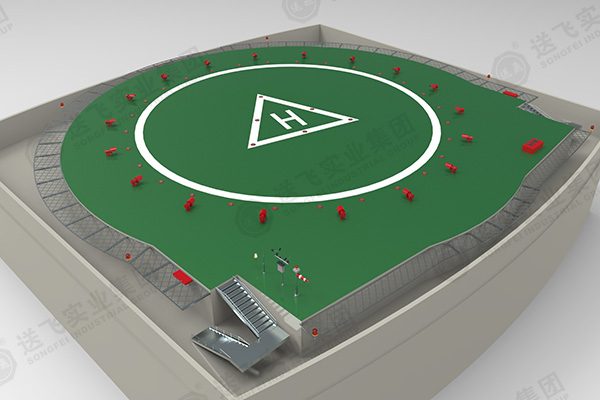H: (270, 111, 307, 130)
